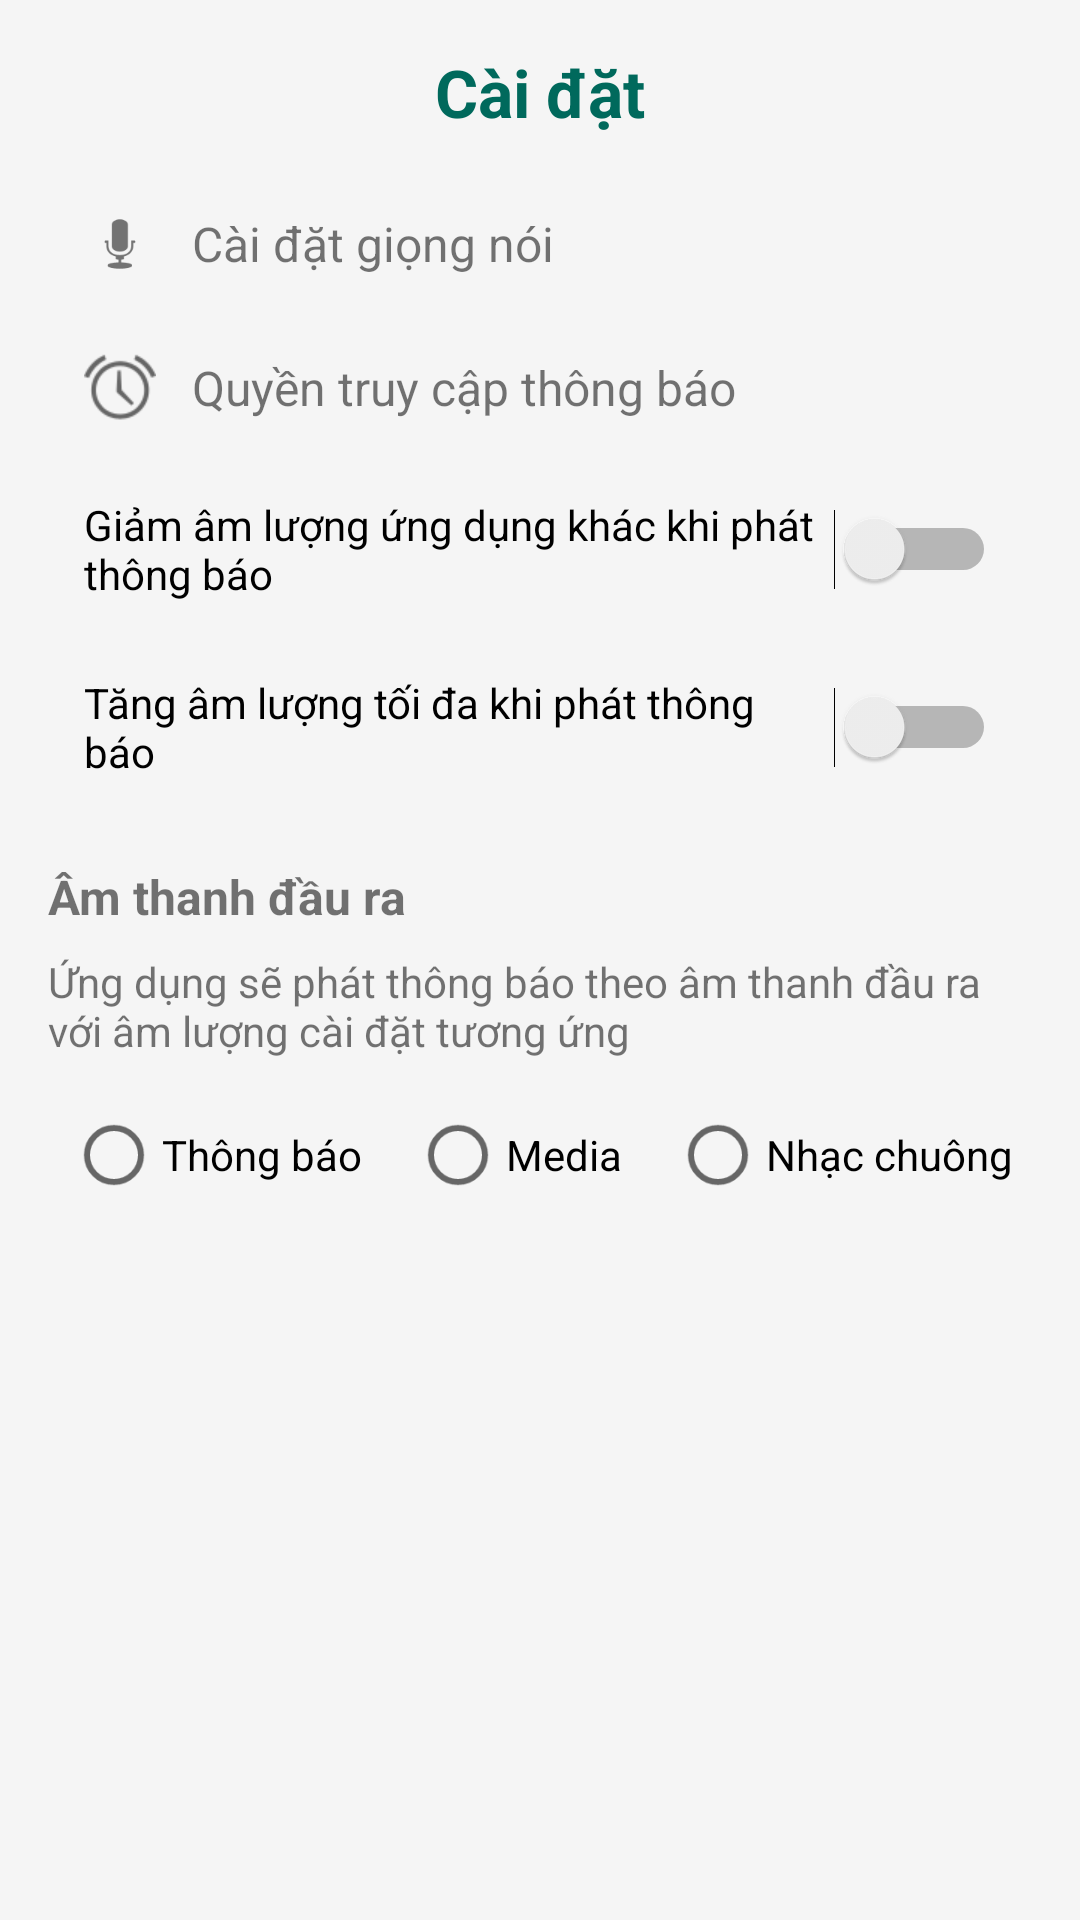

Where icons sit on this 1080*1920 app screen, as {"x1": x1, "y1": y1, "x2": x2, "y2": y2}:
Voice icon: {"x1": 104, "y1": 219, "x2": 136, "y2": 269}
